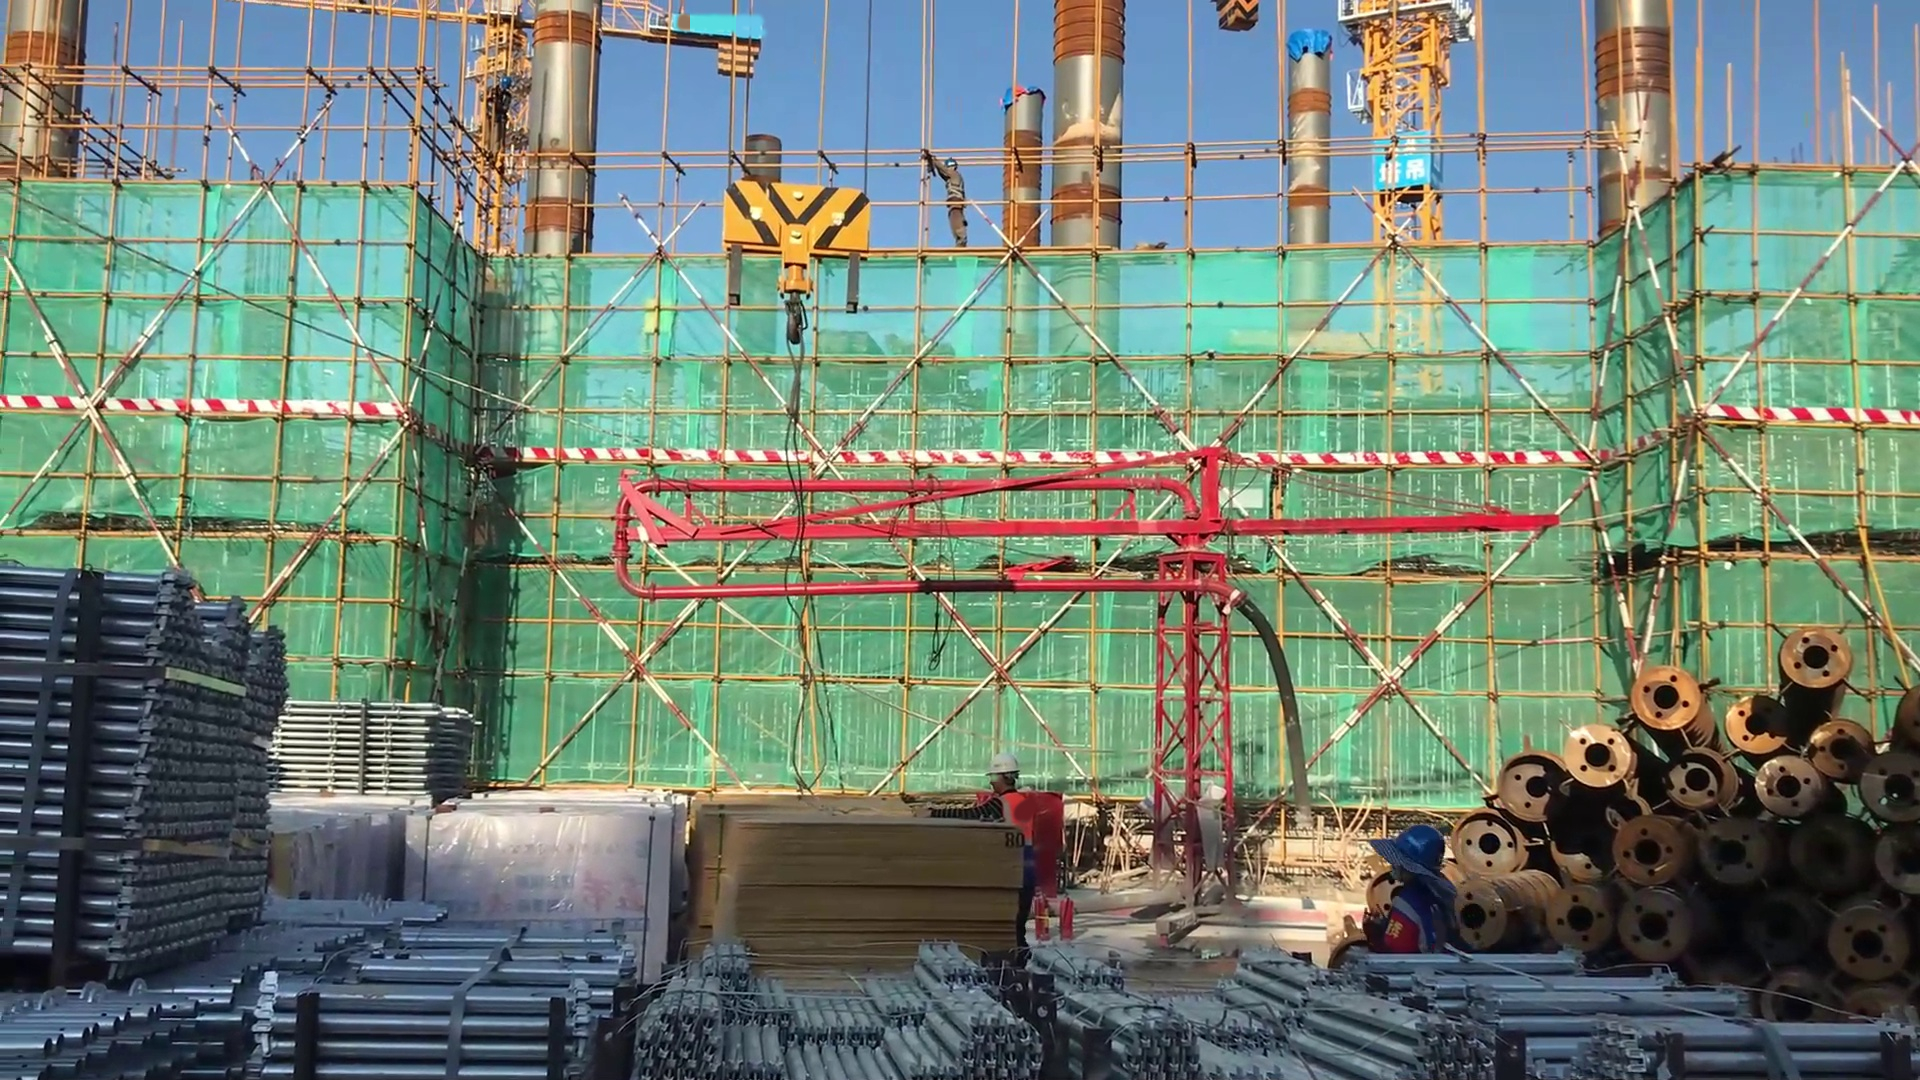board: (676, 794, 1022, 979)
helmet: (1384, 824, 1453, 876), (985, 752, 1022, 775), (943, 158, 958, 169)
hook: (694, 176, 879, 351)
person: (915, 752, 1038, 957), (1360, 820, 1474, 972), (919, 152, 980, 261)
scaffold: (1, 577, 293, 980), (1377, 939, 1920, 1080), (1, 895, 425, 1074), (1047, 941, 1477, 1074), (275, 928, 637, 1080), (640, 939, 1013, 1080), (272, 706, 488, 809)
slogan: (1375, 124, 1441, 198)
vest: (1380, 879, 1467, 960), (999, 790, 1039, 875), (942, 176, 972, 211)
